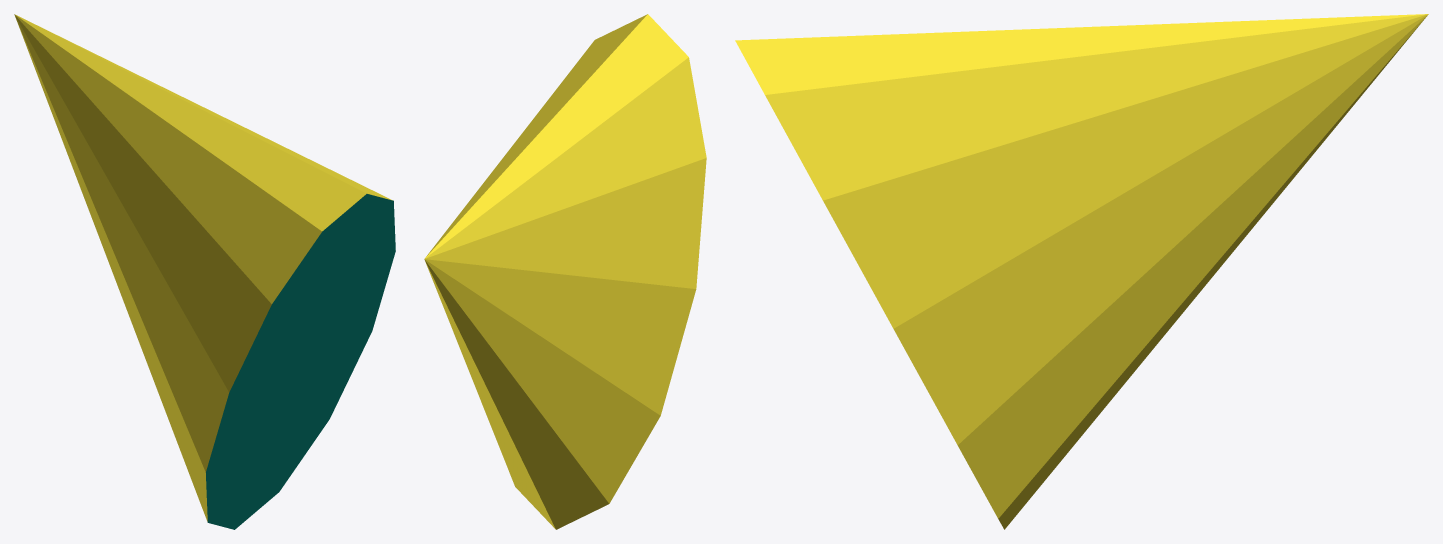
The model's file is n5_n5_group1826603901_lev5.001.glb.
The picture shows the model from 3 angles, left to right: view 1: azimuth 30°, elevation 25°; view 2: azimuth 150°, elevation 25°; view 3: azimuth 270°, elevation 25°; orthographic projection. The views are drawn at different scales.
Parts seen in each view (by area): view 1: n5_n5_group1826603901_lev5.001; view 2: n5_n5_group1826603901_lev5.001; view 3: n5_n5_group1826603901_lev5.001.
Part boxes in pixels (<box>): n5_n5_group1826603901_lev5.001: <box>14,14,395,529</box>; n5_n5_group1826603901_lev5.001: <box>424,14,706,529</box>; n5_n5_group1826603901_lev5.001: <box>735,14,1428,529</box>.
Bounding box in the file's own units: 0.5755 × 1.39 × 1.74.
